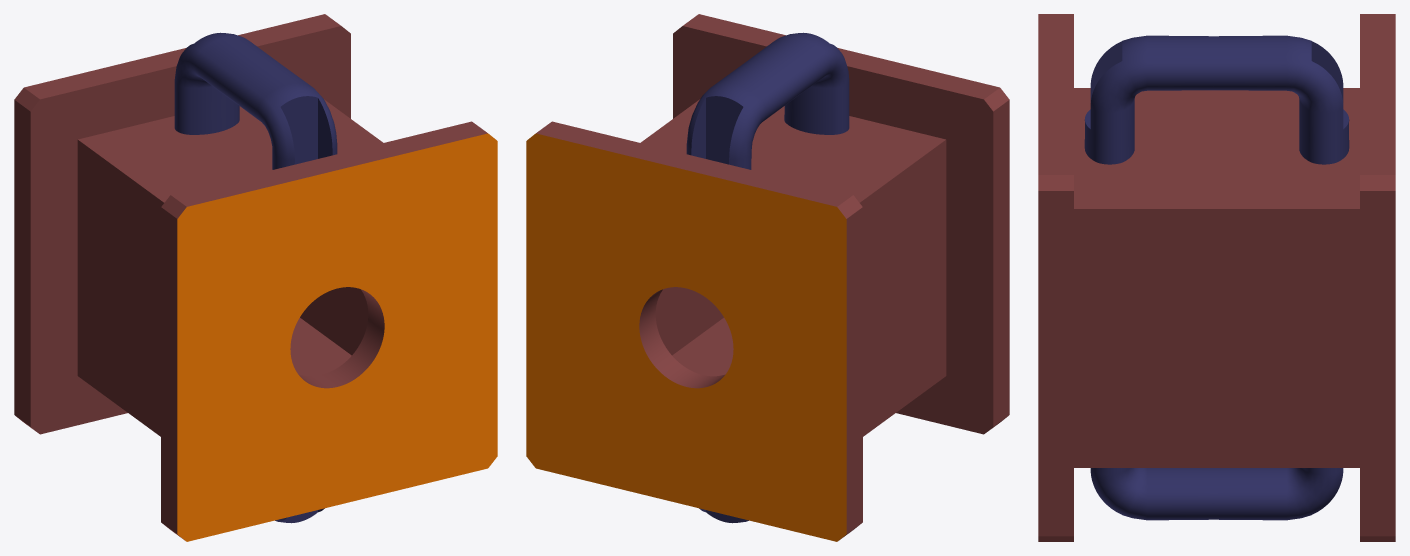
The model's file is KK146561_SUB_BASE_BLOCK_K00_261030.obj.
The picture shows the model from 3 angles, left to right: view 1: azimuth 30°, elevation 25°; view 2: azimuth 150°, elevation 25°; view 3: azimuth 270°, elevation 25°; orthographic projection. The views are drawn at different scales.
Parts seen in each view (by area): view 1: Shell_001, Shell_002, Shell_000, Shell_004; view 2: Shell_000, Shell_002, Shell_001, Shell_004; view 3: Shell_002, Shell_004, Shell_000, Shell_001, Shell_003.
Boxes of the visible parts, x1=… form: Shell_001: x1=161, y1=121, x2=497, y2=541; Shell_002: x1=77, y1=99, x2=383, y2=436; Shell_000: x1=14, y1=14, x2=350, y2=434; Shell_004: x1=174, y1=32, x2=337, y2=169; Shell_000: x1=526, y1=121, x2=862, y2=541; Shell_002: x1=640, y1=99, x2=946, y2=436; Shell_001: x1=673, y1=14, x2=1009, y2=434; Shell_004: x1=686, y1=32, x2=849, y2=169; Shell_002: x1=1074, y1=88, x2=1359, y2=467; Shell_004: x1=1084, y1=35, x2=1349, y2=164; Shell_000: x1=1360, y1=14, x2=1395, y2=541; Shell_001: x1=1038, y1=14, x2=1073, y2=541; Shell_003: x1=1090, y1=468, x2=1343, y2=520.
Size of the model in its own units: 170 by 220 by 150.
